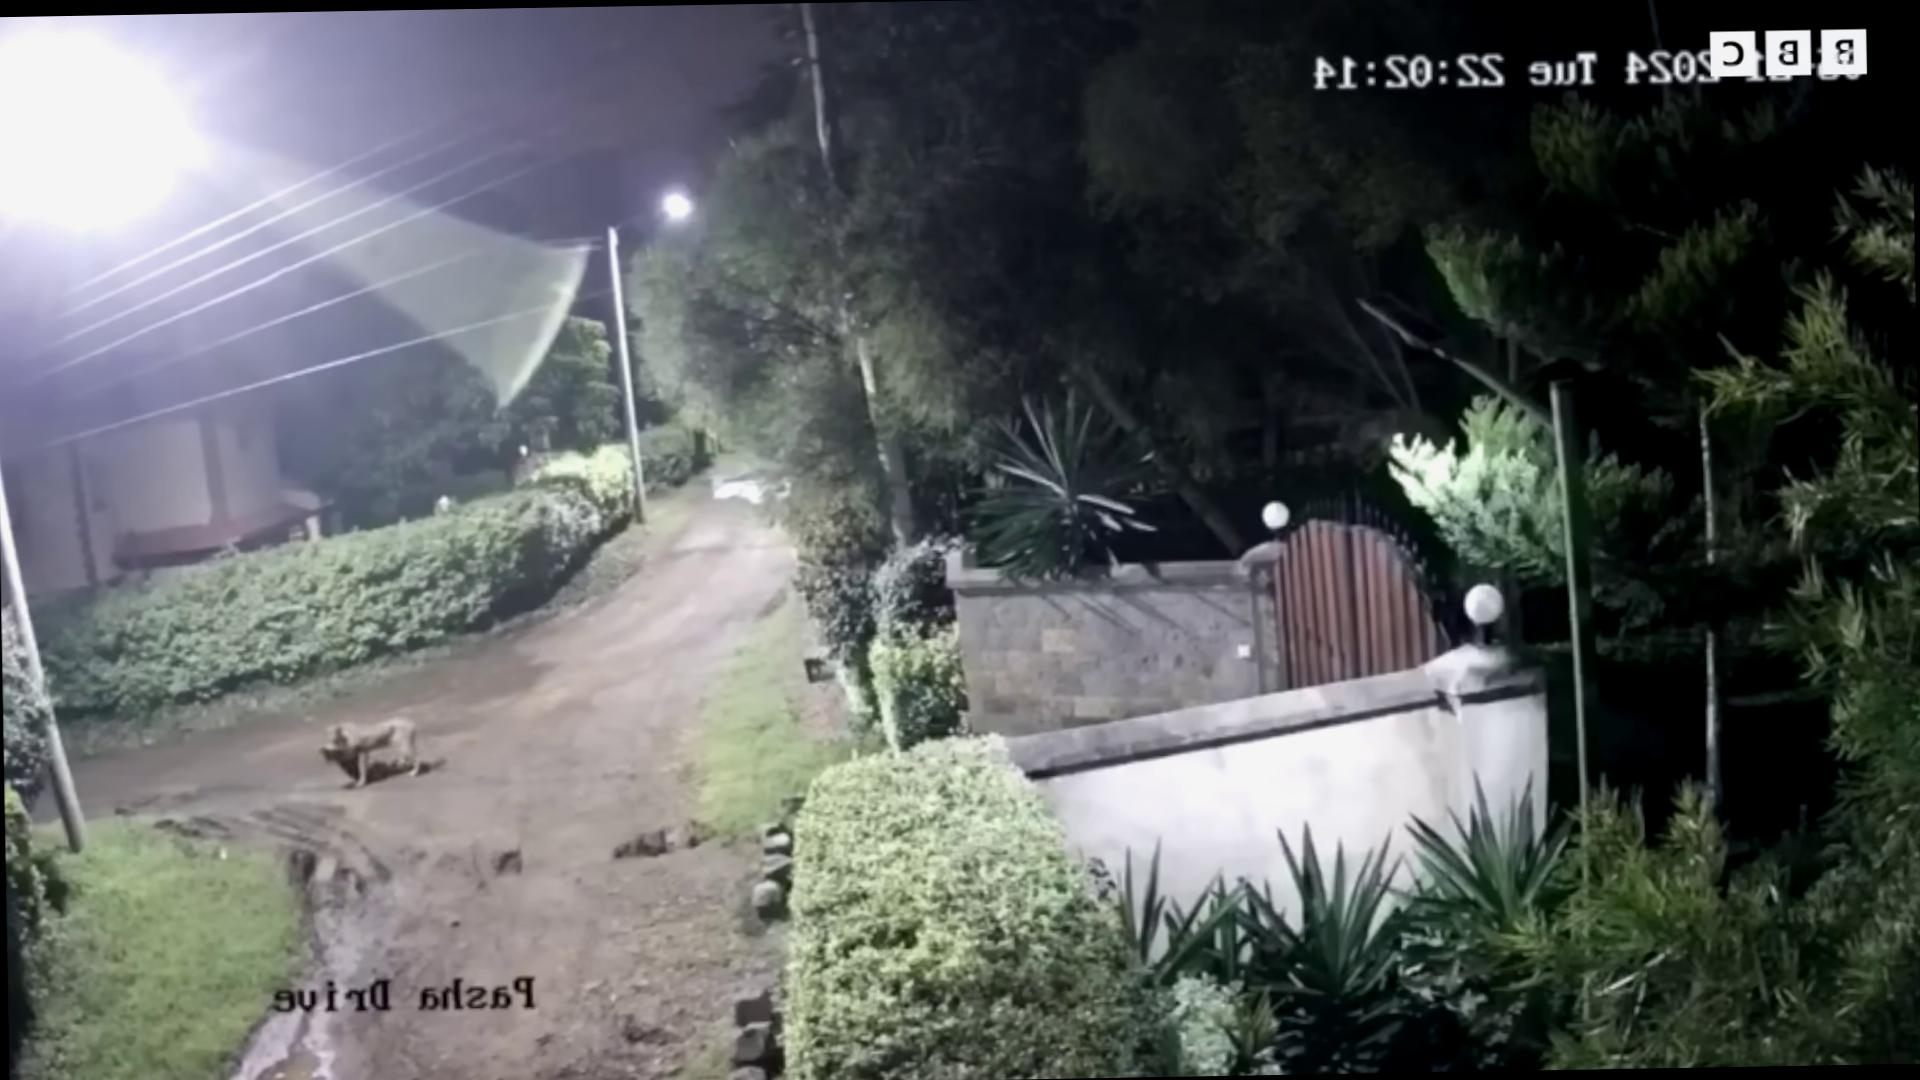lions: (220, 665, 491, 837)
